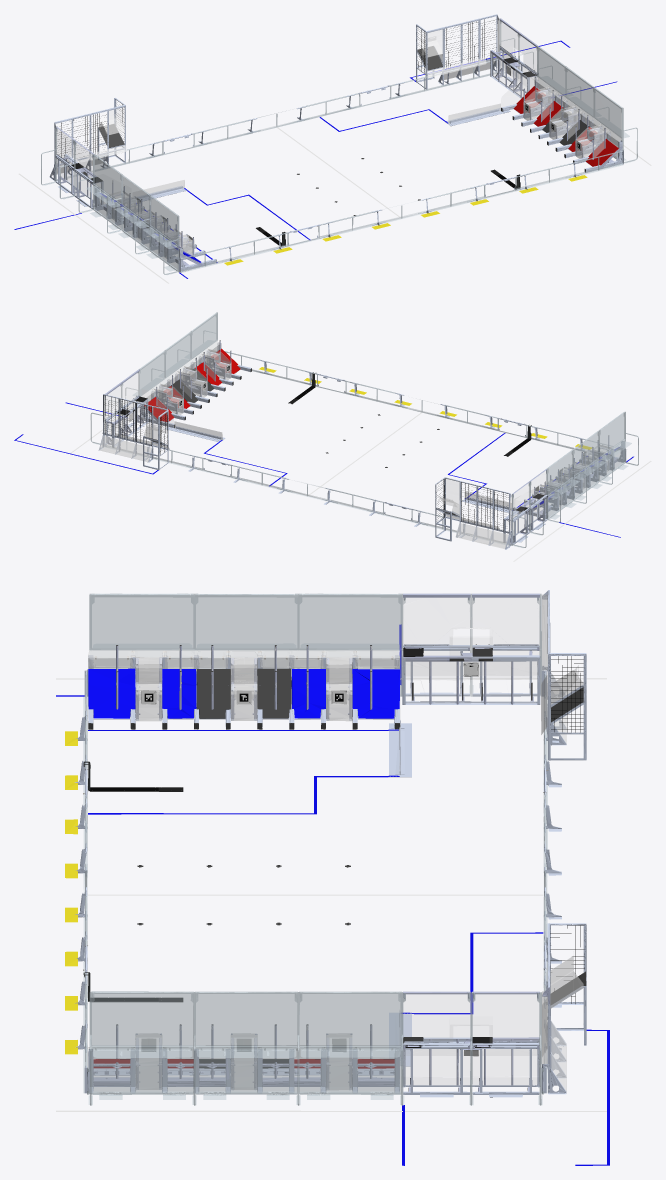
Rendered from field-2023-DxVcJLCL.glb.
3 renders of one model, top to bottom at view 1: azimuth 30°, elevation 25°; view 2: azimuth 150°, elevation 25°; view 3: azimuth 270°, elevation 25°, orthographic. The views are drawn at different scales.
Parts seen in each view (by area): view 1: FE-00026, FE-00012, FE-00080, FE-00005-02, GE-23107, FE-00031, GE-23022, Hook_1_47, Part 27, Tape_StartingLine, Tape_StagingMark, FE-00303 (+3 smaller); view 2: FE-00026, FE-00012, FE-00080, FE-00005-02, GE-23107, FE-00031, Hook_1_47, GE-23022, Part 27, Tape_StartingLine, Tape_StagingMark, GE-23402 (+2 smaller); view 3: FE-00005-02, FE-00012, GE-23107, FE-00026, FE-00080, Part 27, FE-00031, Tape_StagingMark, Tape_StartingLine, Hook_1_47, FE-00015, Hook_1_16 (+2 smaller).
Boxes of the visible parts, bbox=[...] form: FE-00026: bbox=[49, 14, 623, 272]; FE-00012: bbox=[41, 112, 412, 274]; FE-00080: bbox=[51, 18, 621, 258]; FE-00005-02: bbox=[261, 18, 637, 221]; GE-23107: bbox=[57, 21, 536, 199]; FE-00031: bbox=[55, 15, 622, 269]; GE-23022: bbox=[513, 86, 618, 166]; Hook_1_47: bbox=[57, 19, 579, 246]; Part 27: bbox=[14, 40, 617, 278]; Tape_StartingLine: bbox=[18, 56, 651, 283]; Tape_StagingMark: bbox=[124, 77, 605, 262]; FE-00303: bbox=[98, 46, 442, 147]; FE-00026: bbox=[98, 342, 626, 549]; FE-00012: bbox=[294, 400, 638, 547]; FE-00080: bbox=[99, 340, 610, 548]; FE-00005-02: bbox=[90, 312, 428, 498]; GE-23107: bbox=[106, 372, 545, 533]; FE-00031: bbox=[104, 341, 623, 543]; Hook_1_47: bbox=[103, 366, 530, 531]; GE-23022: bbox=[144, 348, 240, 421]; Part 27: bbox=[14, 402, 633, 537]; Tape_StartingLine: bbox=[70, 352, 651, 561]; Tape_StagingMark: bbox=[156, 340, 598, 510]; GE-23402: bbox=[174, 421, 511, 509]; FE-00005-02: bbox=[83, 871, 547, 1105]; FE-00012: bbox=[83, 593, 547, 892]; GE-23107: bbox=[402, 598, 539, 1084]; FE-00026: bbox=[74, 590, 586, 1097]; FE-00080: bbox=[88, 594, 583, 1091]; Part 27: bbox=[56, 624, 609, 1165]; FE-00031: bbox=[85, 593, 549, 1091]; Tape_StagingMark: bbox=[88, 645, 509, 1068]; Tape_StartingLine: bbox=[56, 646, 606, 1111]; Hook_1_47: bbox=[89, 656, 584, 1003]; FE-00015: bbox=[65, 731, 77, 1054]; Hook_1_16: bbox=[158, 644, 551, 1097].
Size of what is drawn, in the model's own units: 22.56 by 2.08 by 9.75.
